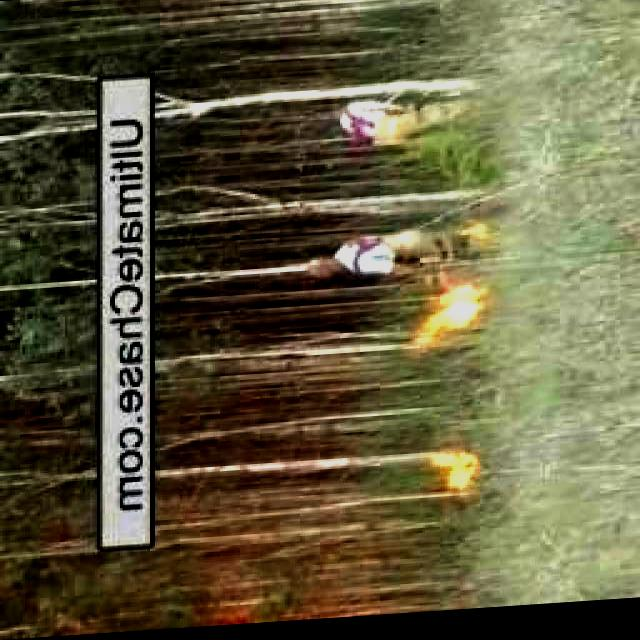helmet: (425, 290, 480, 348), (443, 459, 484, 499), (468, 228, 489, 242)
